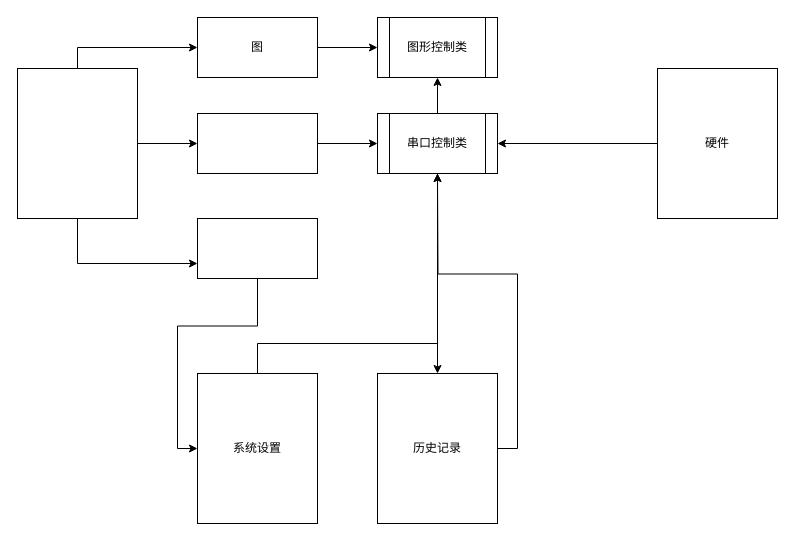
Image size: 795x541. Some labels were removed from this diagram. Here are the shapes that lost their labels. From the top down, the centre of each, then its label:
[77,143]: 主页
[257,143]: 控制按钮
[257,248]: 导航栏
